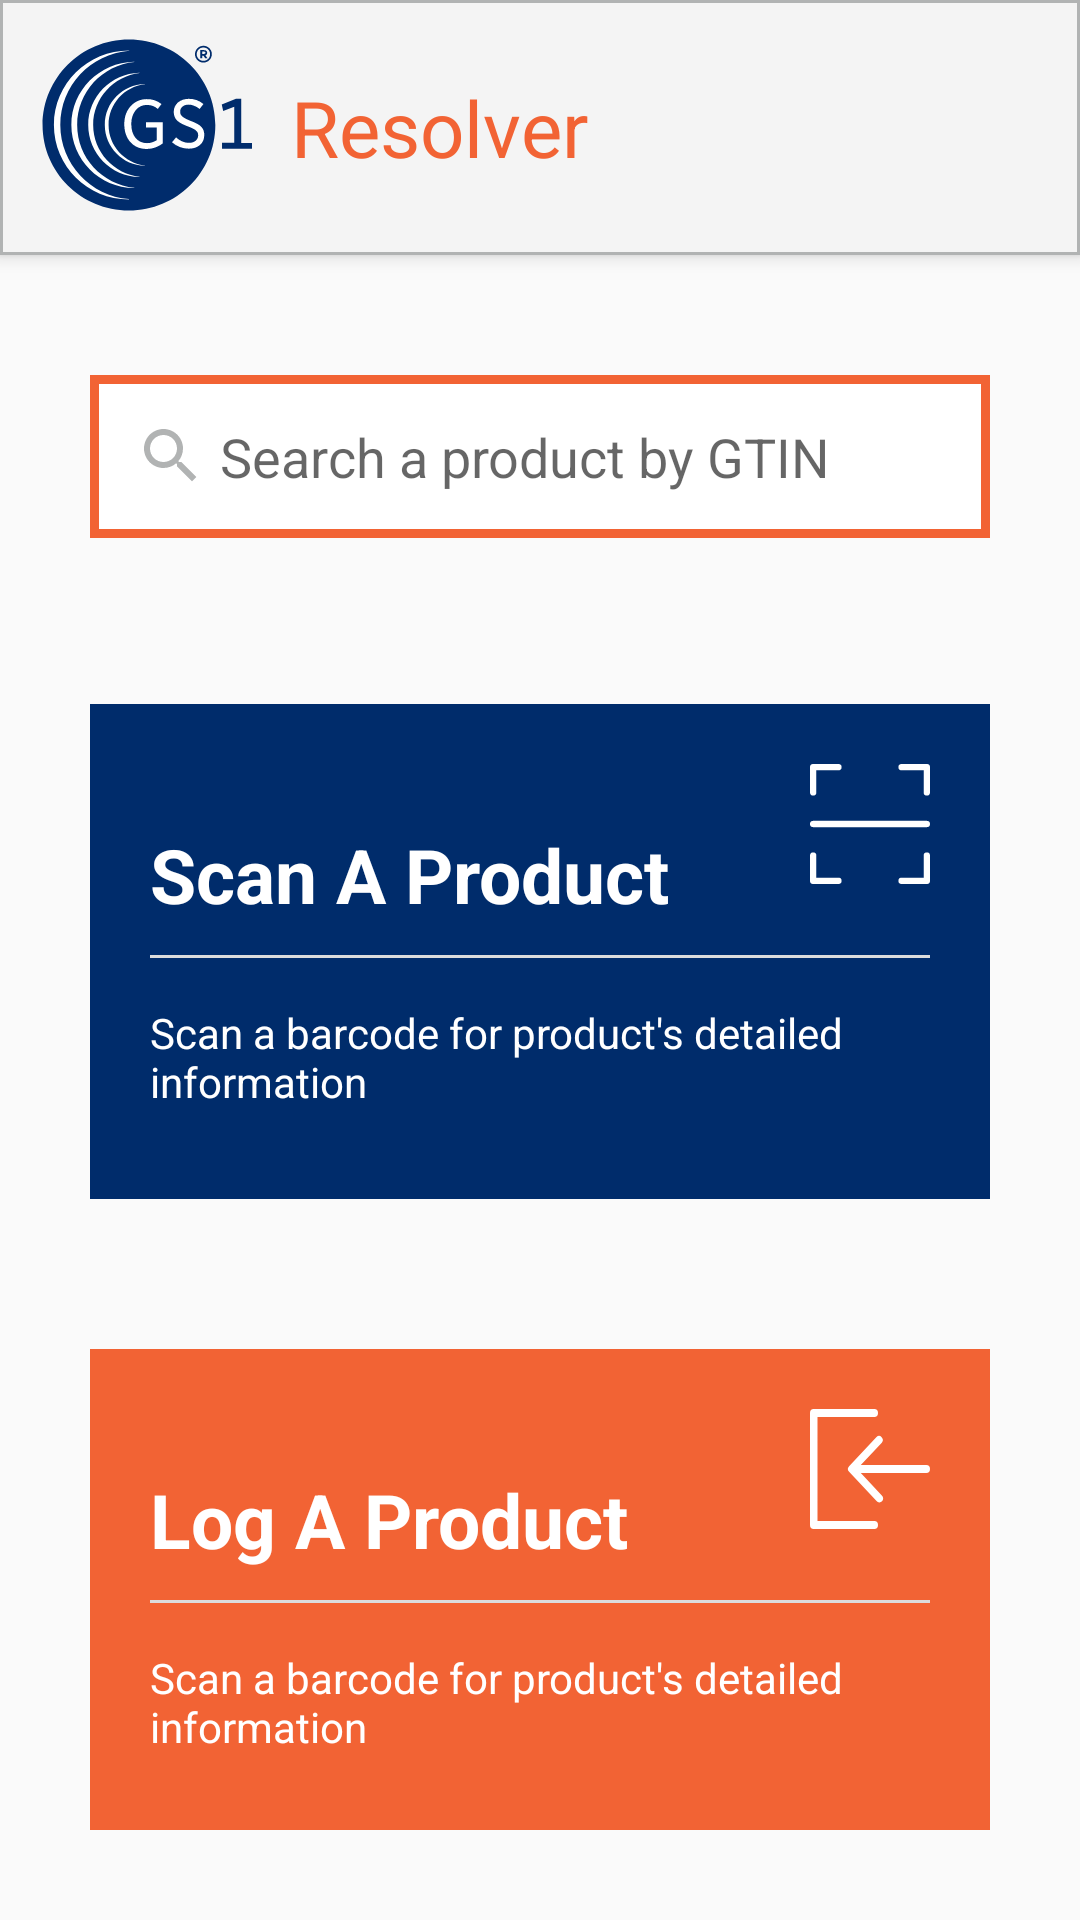

Named icons in this screenshot (1080w x 1920h) and their centers, [x,y]:
log: [870,1469]
